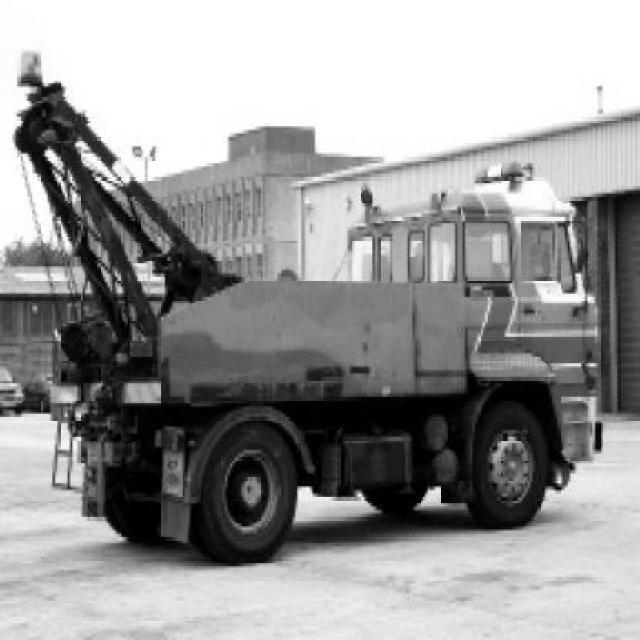Box Truck: (13, 50, 607, 566)
